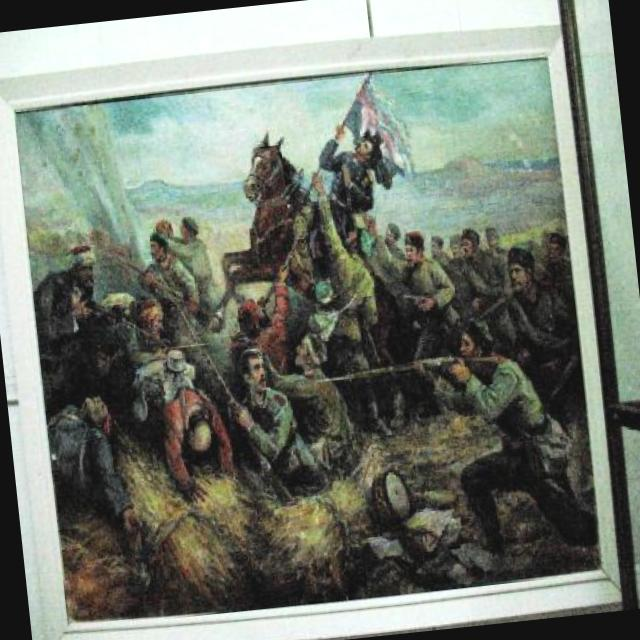Person: (16, 105, 602, 606)
